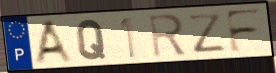1: (119, 17, 137, 58)
A: (33, 18, 77, 65)
F: (223, 7, 263, 55)
Q: (75, 18, 107, 62)
R: (147, 12, 189, 59)
Z: (186, 12, 228, 54)
